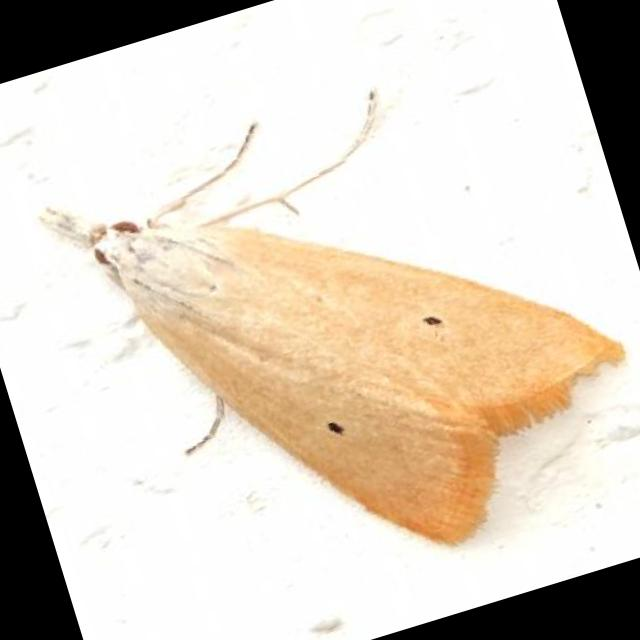stem-borer: (20, 35, 640, 640)
